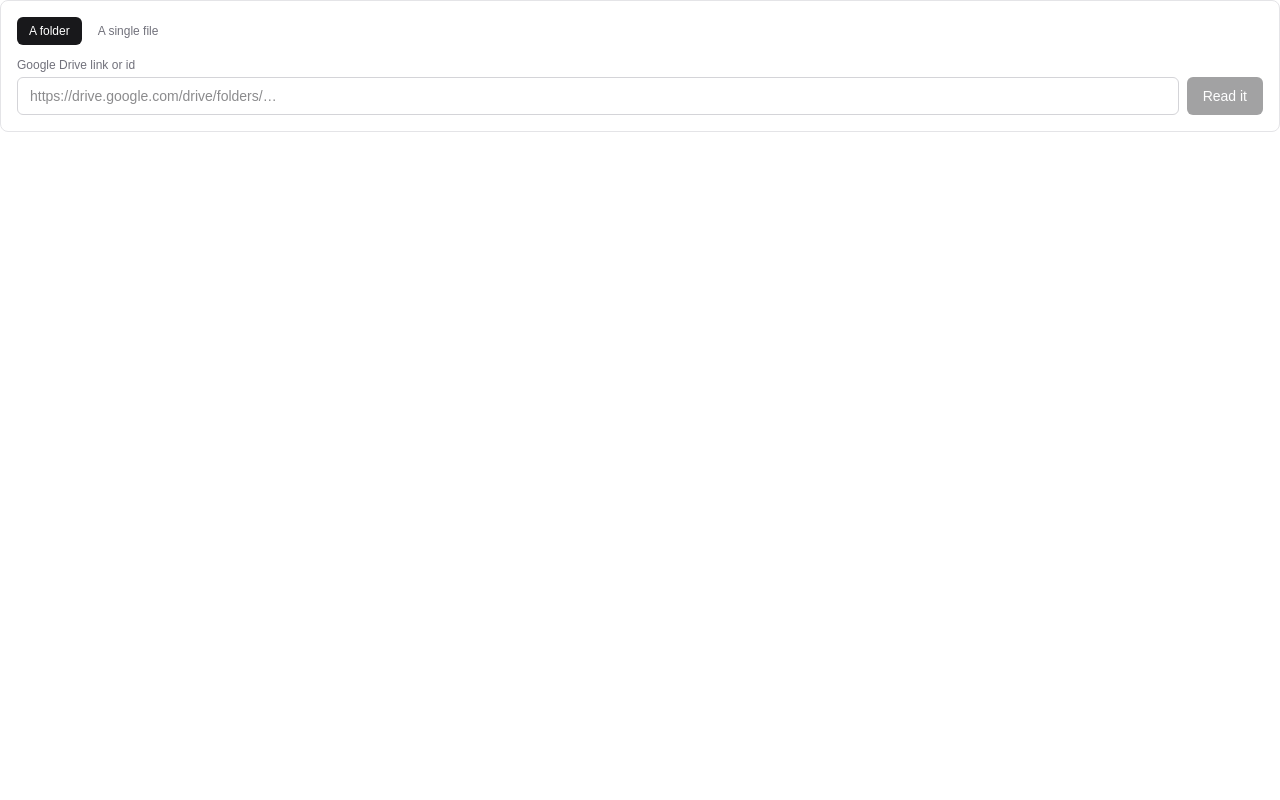
Test: ImportPlanner — the hierarchy, stated out loud › offers the guesses for review, and lets her overrule one
The image size is (1280, 800).
In the field labelled "Google Drive link or id": x=598, y=96 [17,77,1179,115], type "https://drive.google.com/drive/folders/abc123"
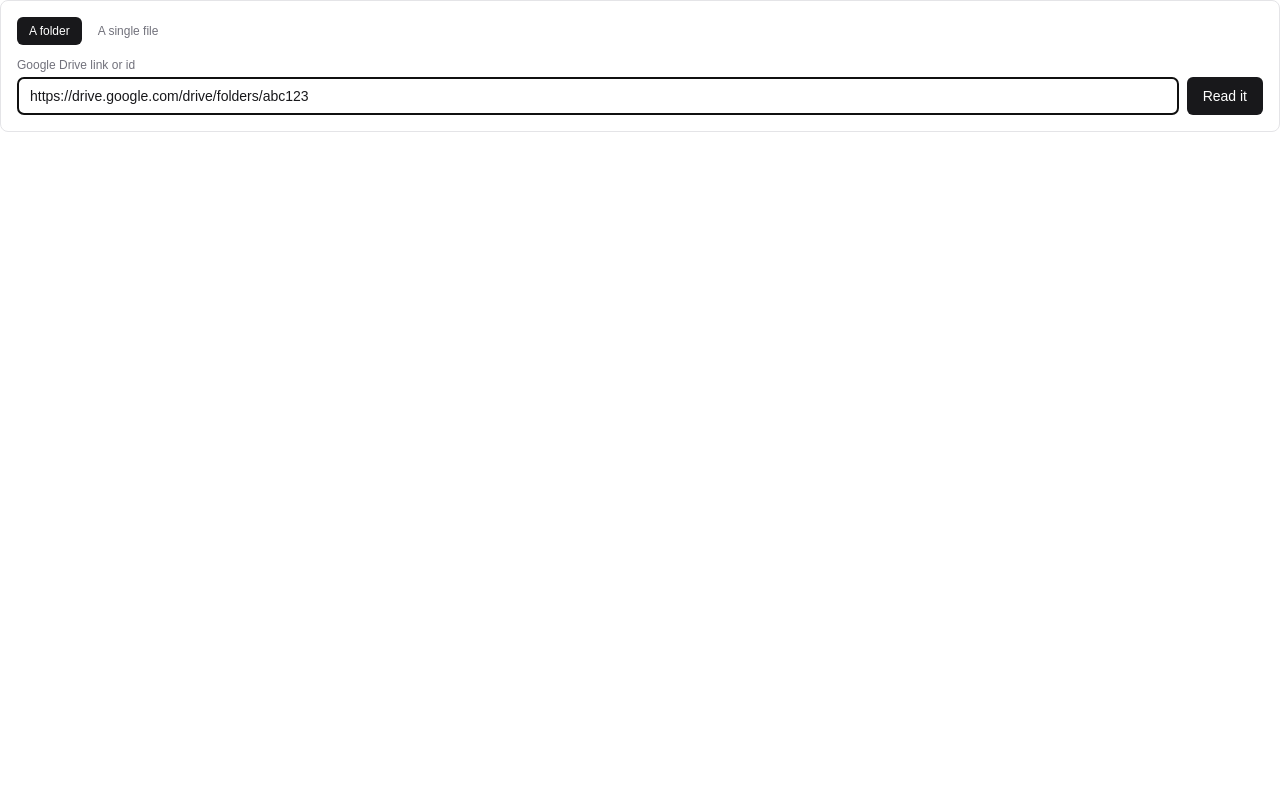
Click the button "Read it": x=1225, y=96 [1187,77,1263,115]
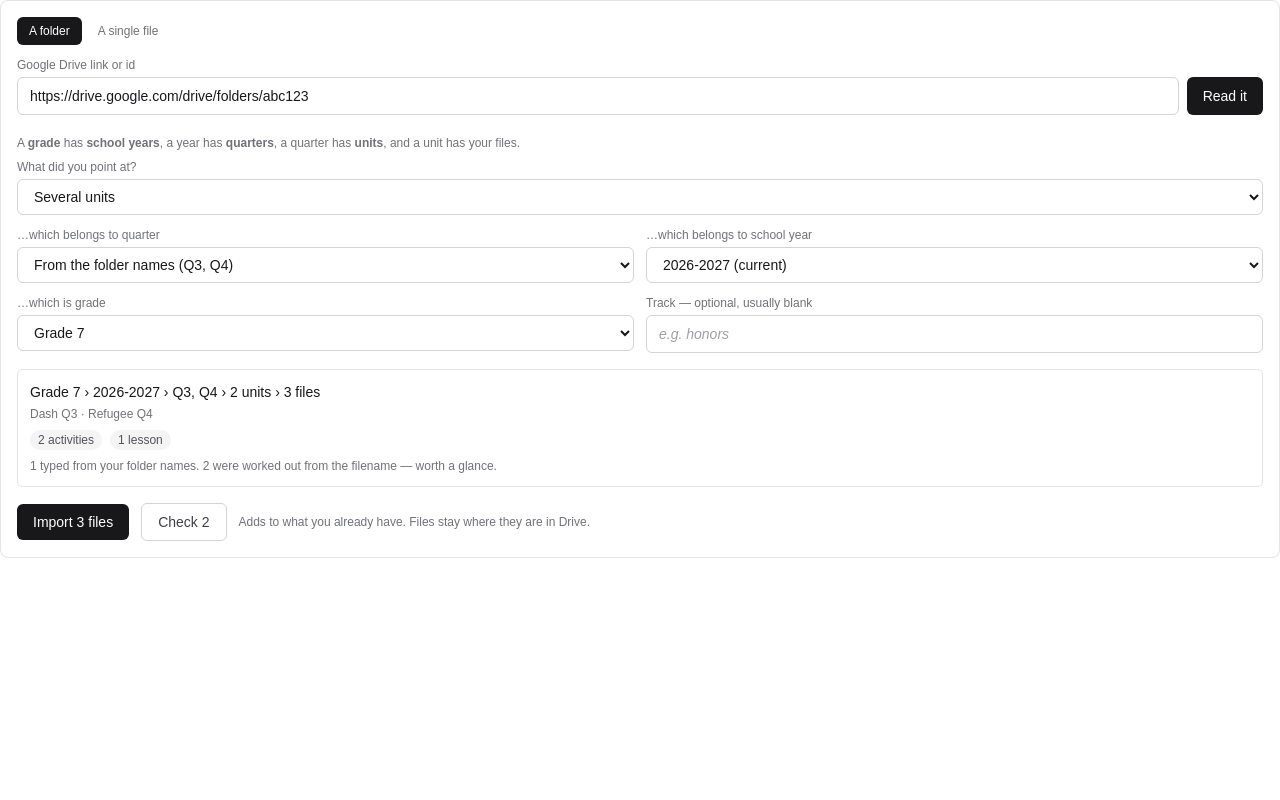
Check: the dropdown labelled "What did you point at?" is shown, box [17,179,1263,215]
Check: the text "2 activities" is shown, box [30,430,102,450]
Click the button "Check 2": x=184, y=522 [141,503,226,541]
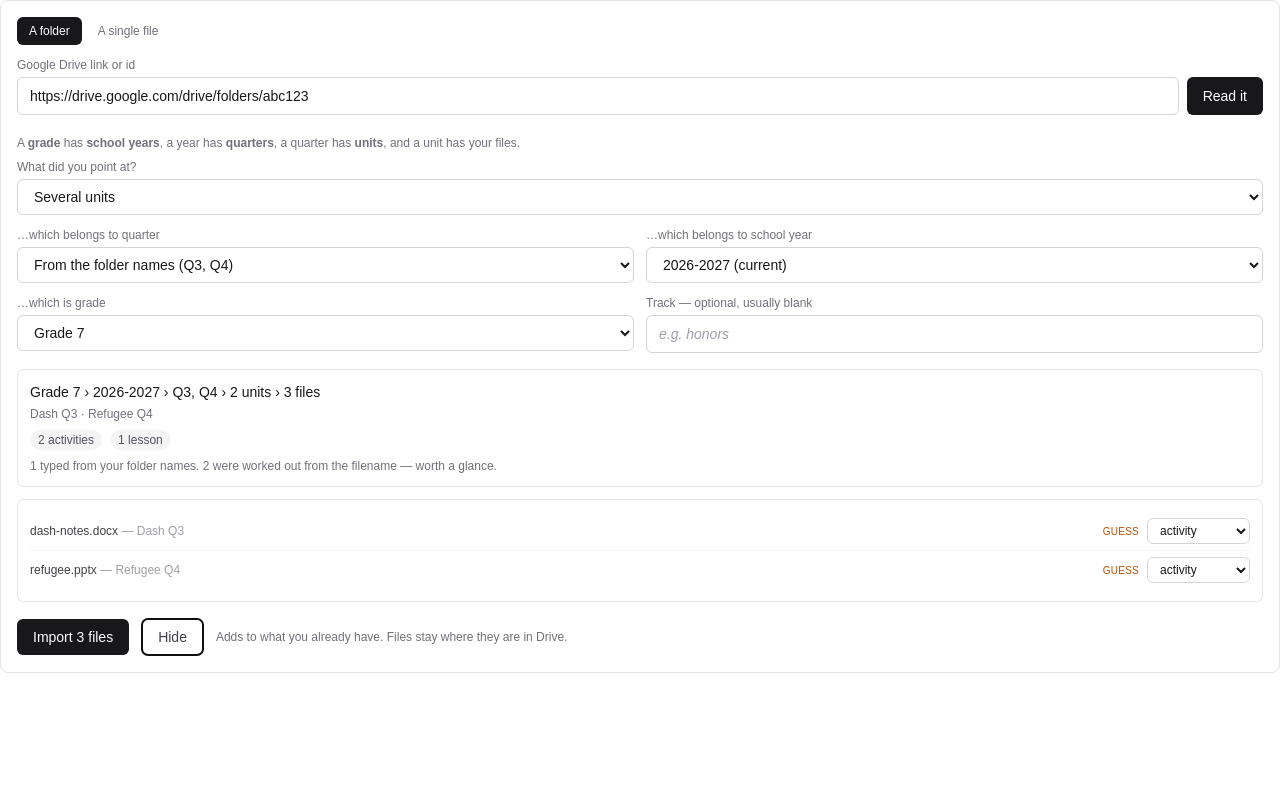
Select "resource" in the dropdown named "Type for refugee.pptx": x=1198, y=570 [1147,557,1250,583]
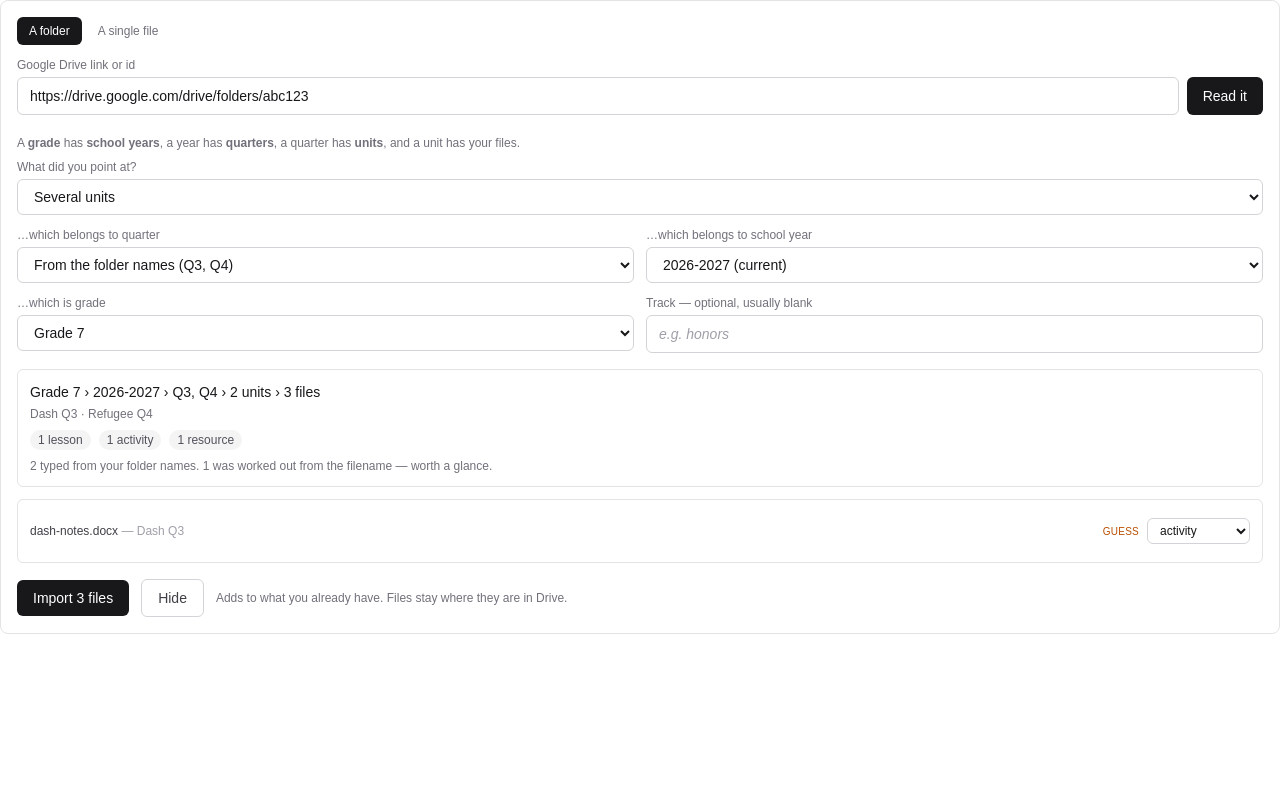
Check: the text "1 resource" is shown, box [169,430,242,450]
Check: the text "1 activity" is shown, box [99,430,161,450]
